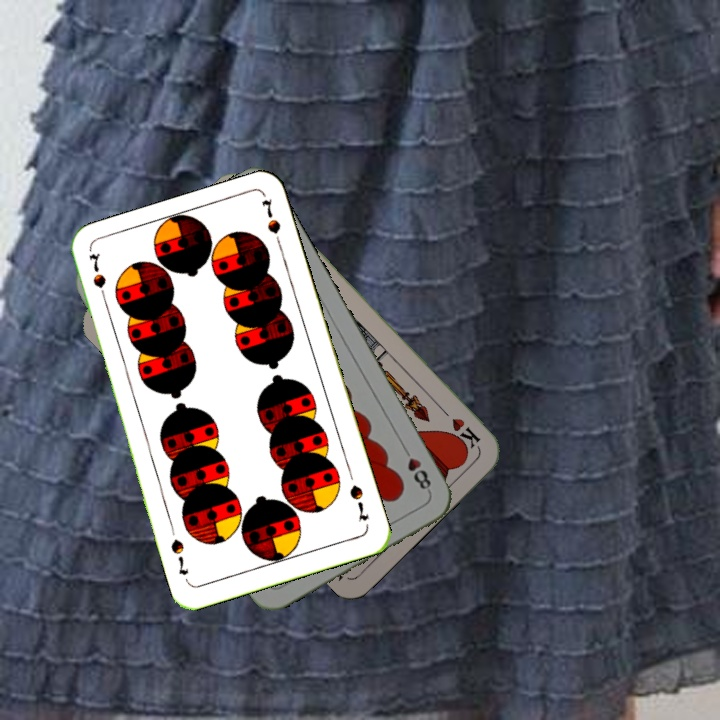H8: (398, 442, 434, 496)
HK: (435, 402, 483, 452)
S7: (85, 249, 110, 307), (345, 480, 372, 524)
